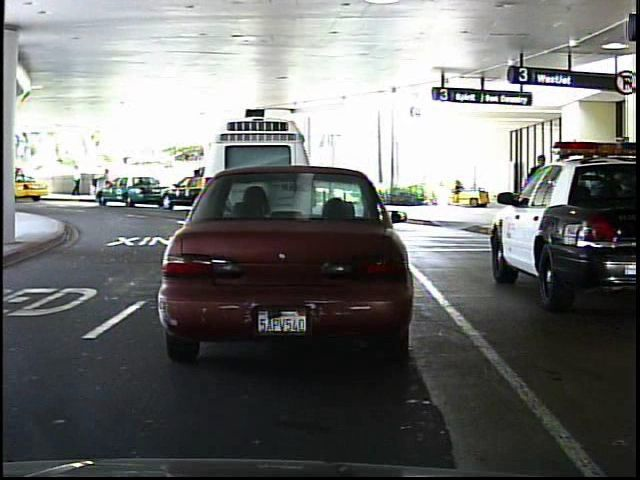person: (522, 149, 554, 231), (97, 165, 115, 200), (71, 161, 85, 200)
